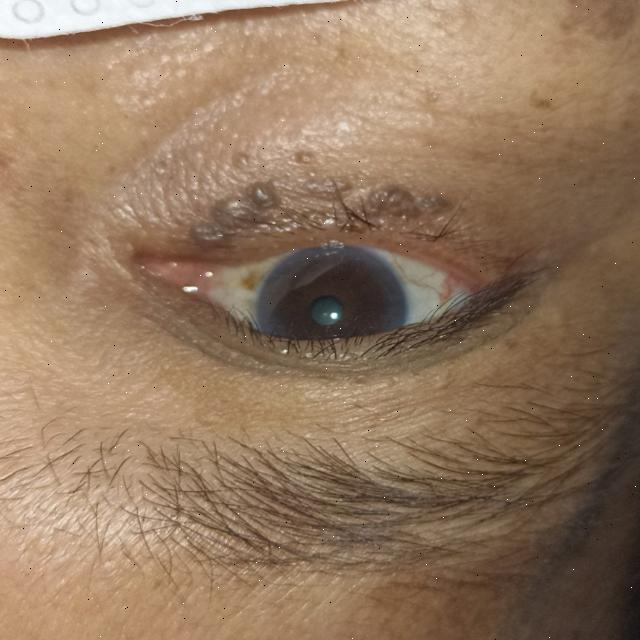Cataract: (248, 247, 407, 372)
